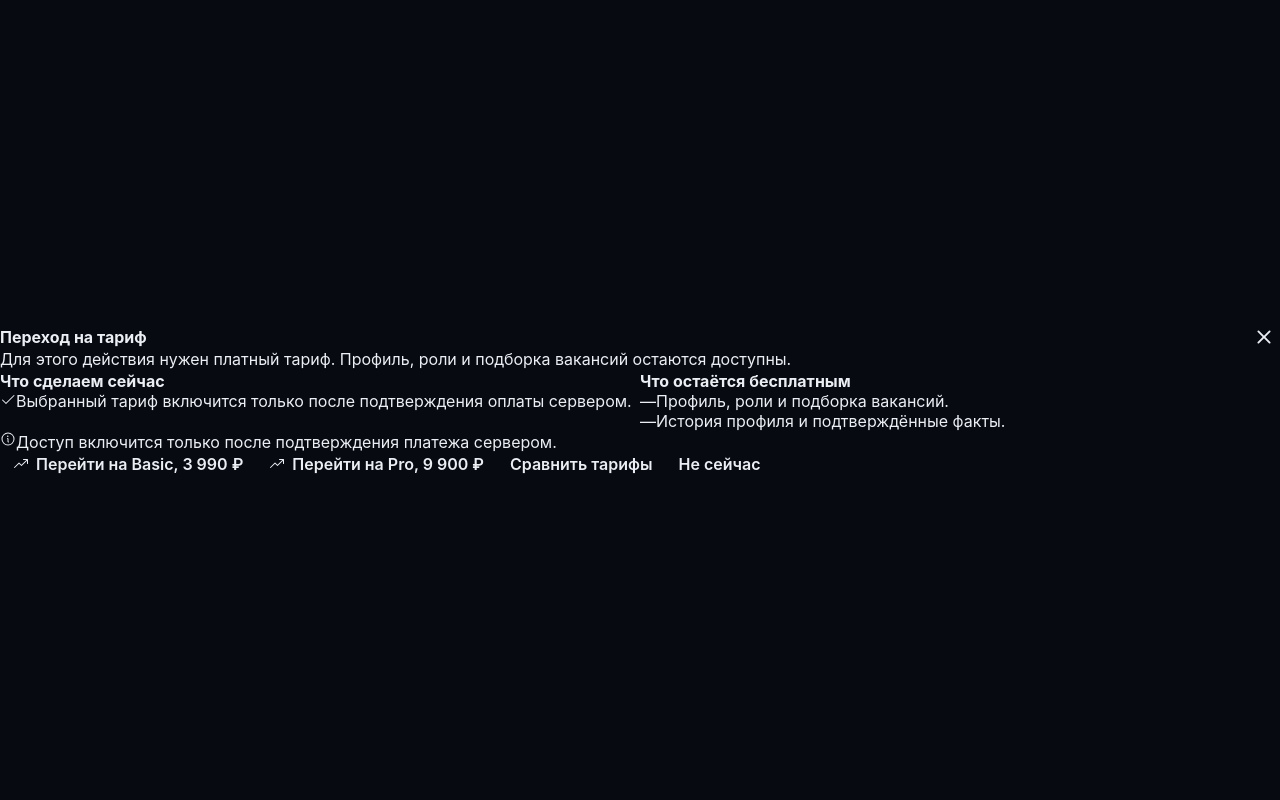
Test: PaywallModal B470 › opens checkout after the candidate chooses a paid tariff
The image size is (1280, 800).
Click the button "Перейти на Basic, 3 990 ₽".
click(128, 464)  # box [0,454,256,474]
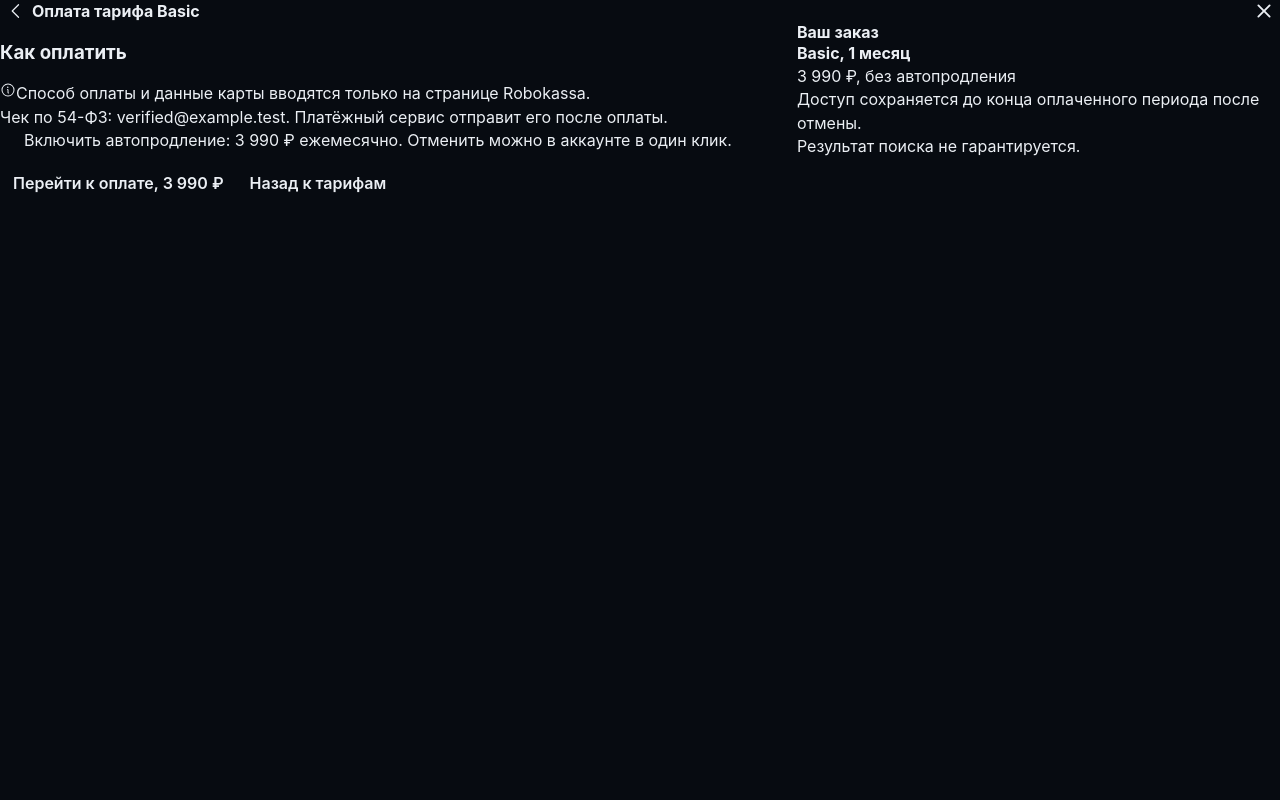
Check: the text "Ваш заказ" is shown, box [797,22,879,42]
Check: the text "verified@example.test" is shown, box [117,107,285,127]
Check: the text "Перейти к оплате" is shown, box [0,173,236,193]
